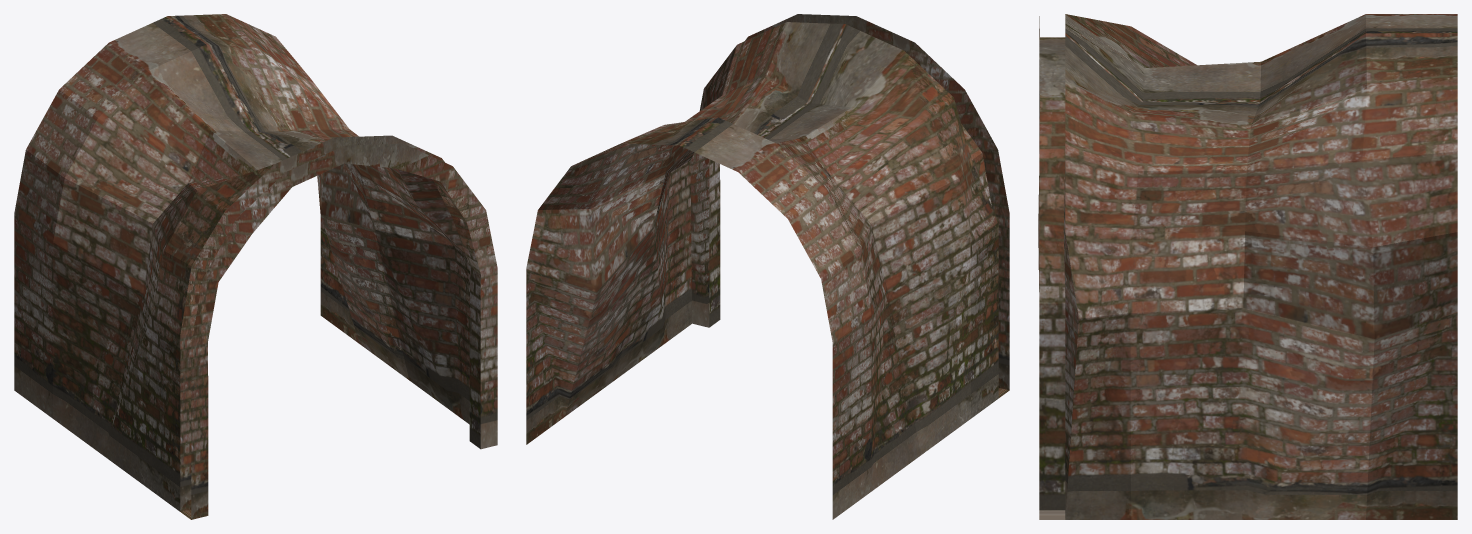
Rendered from tunnel_Wall2_Deformed_GEO.fbx.
3 renders of one model, left to right at view 1: azimuth 30°, elevation 25°; view 2: azimuth 150°, elevation 25°; view 3: azimuth 270°, elevation 25°, orthographic. The views are drawn at different scales.
Parts seen in each view (by area): view 1: tunnel_Wall2_Deformed_GEO; view 2: tunnel_Wall2_Deformed_GEO; view 3: tunnel_Wall2_Deformed_GEO.
Boxes of the visible parts, x1=… form: tunnel_Wall2_Deformed_GEO: x1=14, y1=14, x2=497, y2=519; tunnel_Wall2_Deformed_GEO: x1=526, y1=14, x2=1009, y2=519; tunnel_Wall2_Deformed_GEO: x1=1038, y1=14, x2=1457, y2=519.
Bounding box in the file's own units: 5 × 5.25 × 5.01.
